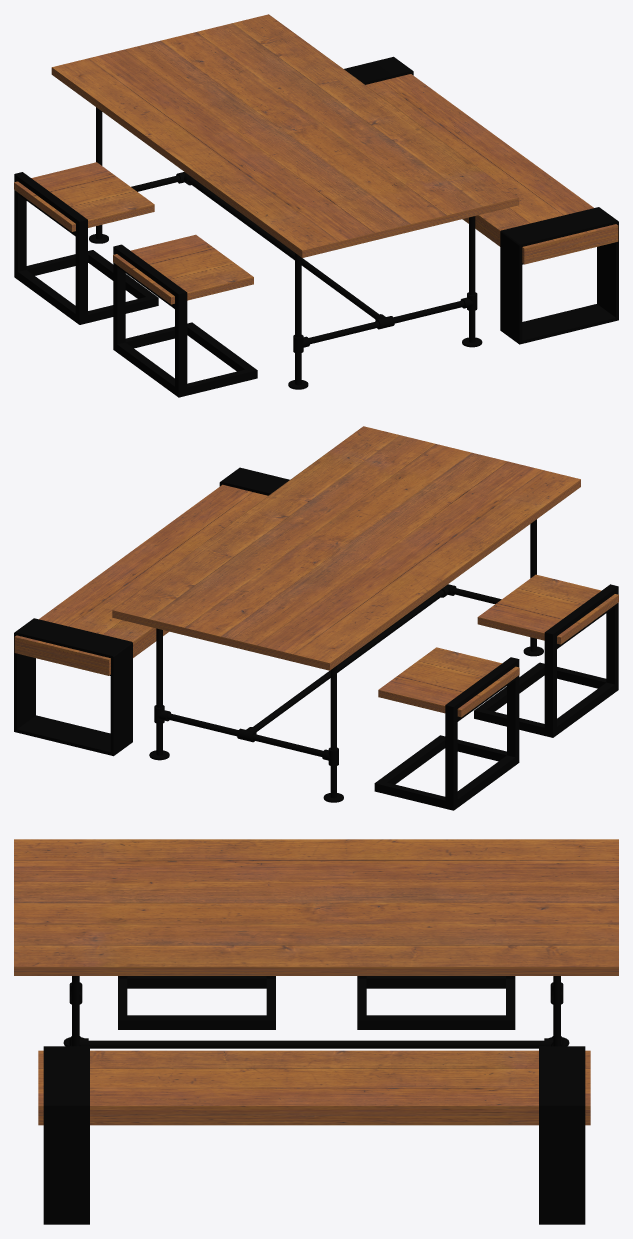
Rendered from mesasCoW.fbx.
3 renders of one model, top to bottom at view 1: azimuth 30°, elevation 25°; view 2: azimuth 150°, elevation 25°; view 3: azimuth 270°, elevation 25°, orthographic. The views are drawn at different scales.
Visible parts, largest first — view 1: Box001_wood 01_0, bench_seat_005_wood 01_0, bench_base_005_metal 03_0, chair_base_003_metal 03_0, chair_base_004_metal 03_0, chair_seat_004_wood 01_0, chair_seat_005_wood 01_0, Cylinder023_metal 03_0, bench_base_006_metal 03_0, Cylinder022_metal 03_0, Cylinder020_metal 03_0, Cylinder010_metal 03_0; view 2: Box001_wood 01_0, bench_seat_005_wood 01_0, bench_base_006_metal 03_0, chair_base_004_metal 03_0, chair_base_003_metal 03_0, chair_seat_005_wood 01_0, chair_seat_004_wood 01_0, Cylinder023_metal 03_0, bench_base_005_metal 03_0, Cylinder021_metal 03_0, Cylinder011_metal 03_0, Cylinder001_metal 03_0; view 3: Box001_wood 01_0, bench_seat_005_wood 01_0, bench_base_005_metal 03_0, bench_base_006_metal 03_0, chair_base_004_metal 03_0, chair_base_003_metal 03_0, Cylinder023_metal 03_0, Cylinder001_metal 03_0, Cylinder010_metal 03_0.
Part boxes in pixels (x1,y1,x2,y2): Box001_wood 01_0: [51, 14, 519, 257]; bench_seat_005_wood 01_0: [366, 74, 618, 264]; bench_base_005_metal 03_0: [500, 207, 618, 344]; chair_base_003_metal 03_0: [113, 244, 257, 397]; chair_base_004_metal 03_0: [14, 172, 158, 324]; chair_seat_004_wood 01_0: [113, 234, 253, 304]; chair_seat_005_wood 01_0: [14, 162, 154, 231]; Cylinder023_metal 03_0: [188, 177, 378, 319]; bench_base_006_metal 03_0: [344, 56, 413, 84]; Cylinder022_metal 03_0: [308, 300, 464, 344]; Cylinder020_metal 03_0: [295, 253, 301, 385]; Cylinder010_metal 03_0: [469, 216, 475, 342]; Box001_wood 01_0: [112, 426, 580, 670]; bench_seat_005_wood 01_0: [14, 484, 267, 675]; bench_base_006_metal 03_0: [14, 618, 132, 756]; chair_base_004_metal 03_0: [374, 657, 519, 810]; chair_base_003_metal 03_0: [474, 584, 618, 737]; chair_seat_005_wood 01_0: [378, 647, 519, 717]; chair_seat_004_wood 01_0: [477, 574, 618, 644]; Cylinder023_metal 03_0: [253, 590, 443, 731]; bench_base_005_metal 03_0: [219, 467, 289, 495]; Cylinder021_metal 03_0: [167, 713, 323, 756]; Cylinder011_metal 03_0: [330, 666, 336, 798]; Cylinder001_metal 03_0: [156, 628, 162, 755]; Box001_wood 01_0: [14, 839, 618, 975]; bench_seat_005_wood 01_0: [38, 1050, 590, 1125]; bench_base_005_metal 03_0: [43, 1046, 89, 1224]; bench_base_006_metal 03_0: [539, 1046, 585, 1224]; chair_base_004_metal 03_0: [357, 976, 515, 1029]; chair_base_003_metal 03_0: [118, 976, 275, 1029]; Cylinder023_metal 03_0: [88, 1040, 544, 1048]; Cylinder001_metal 03_0: [553, 976, 560, 1046]; Cylinder010_metal 03_0: [72, 976, 79, 1046].
Size of the model in its own units: 255 by 93.57 by 267.
2 materials, 1 textured.
